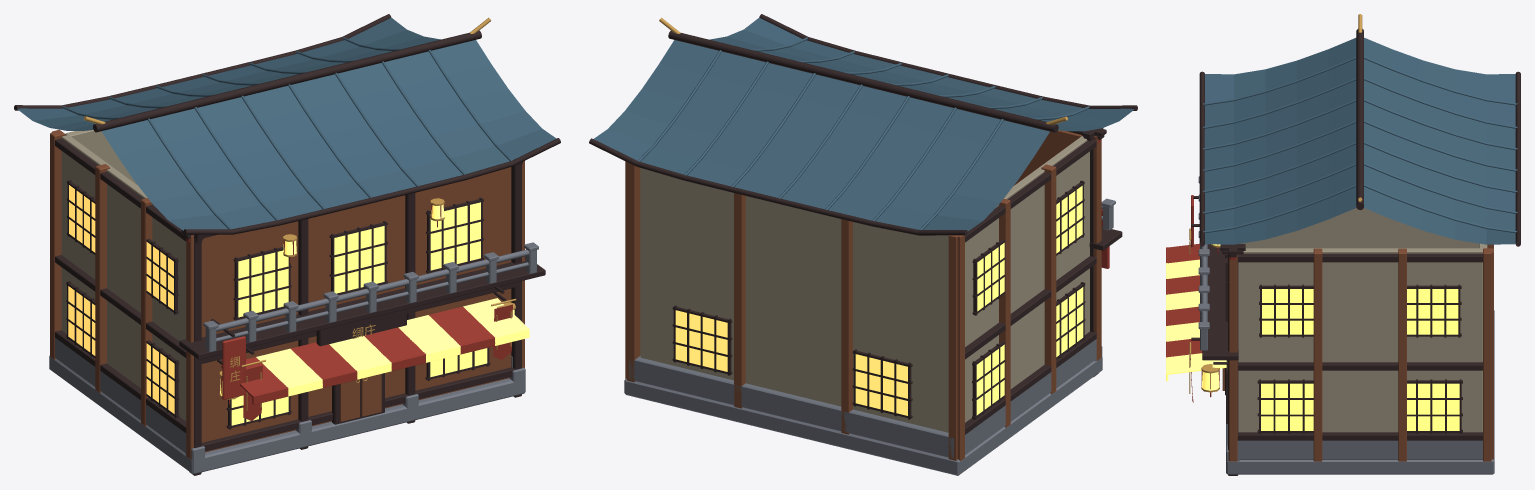
The model's file is model-shop-04.glb.
The picture shows the model from 3 angles, left to right: view 1: azimuth 30°, elevation 25°; view 2: azimuth 150°, elevation 25°; view 3: azimuth 270°, elevation 25°; orthographic projection. The views are drawn at different scales.
Visible parts, largest first — view 1: model-shop-04; view 2: model-shop-04; view 3: model-shop-04.
Part boxes in pixels (x1=…): model-shop-04: x1=14, y1=14, x2=560, y2=475; model-shop-04: x1=589, y1=14, x2=1137, y2=475; model-shop-04: x1=1166, y1=14, x2=1520, y2=475.
Size of the model in its own units: 12.05 by 8.99 by 9.78.
